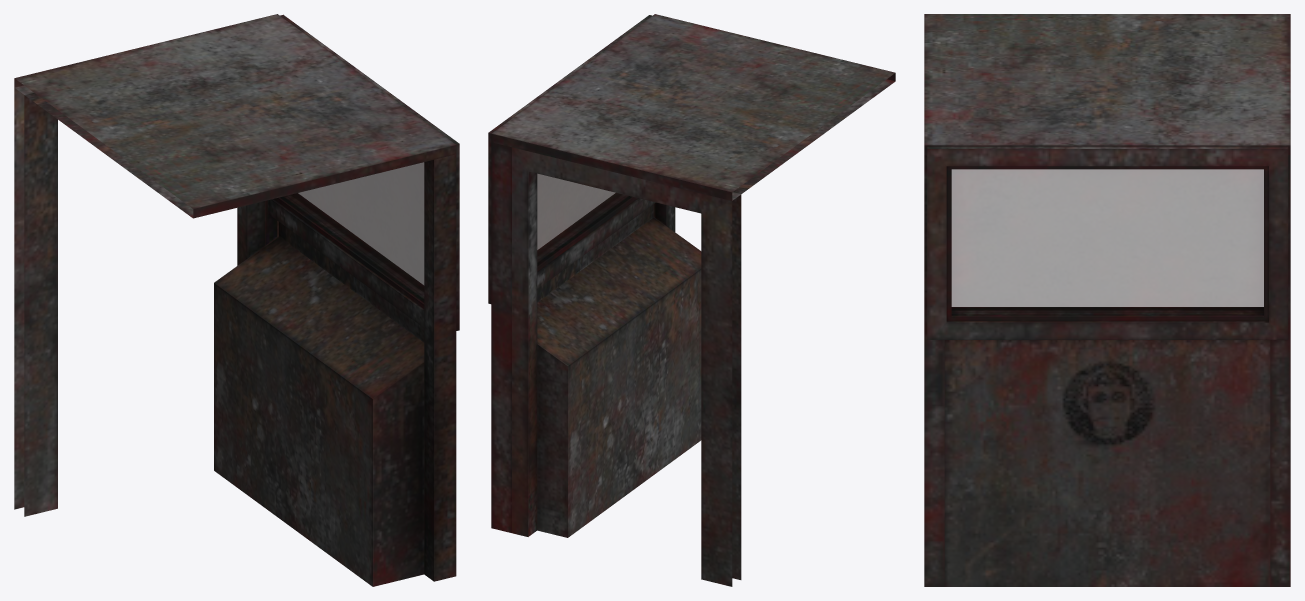
The model's file is TR_R_Cabin.FBX.
3 renders of one model, left to right at view 1: azimuth 30°, elevation 25°; view 2: azimuth 150°, elevation 25°; view 3: azimuth 270°, elevation 25°, orthographic. The views are drawn at different scales.
Parts seen in each view (by area): view 1: TR_R_Cabin; view 2: TR_R_Cabin; view 3: TR_R_Cabin.
Part boxes in pixels (x1,y1,x2,y2): TR_R_Cabin: (14,14,459,586); TR_R_Cabin: (488,14,895,586); TR_R_Cabin: (924,14,1290,586).
Size of the model in its own units: 148 by 227 by 171.
